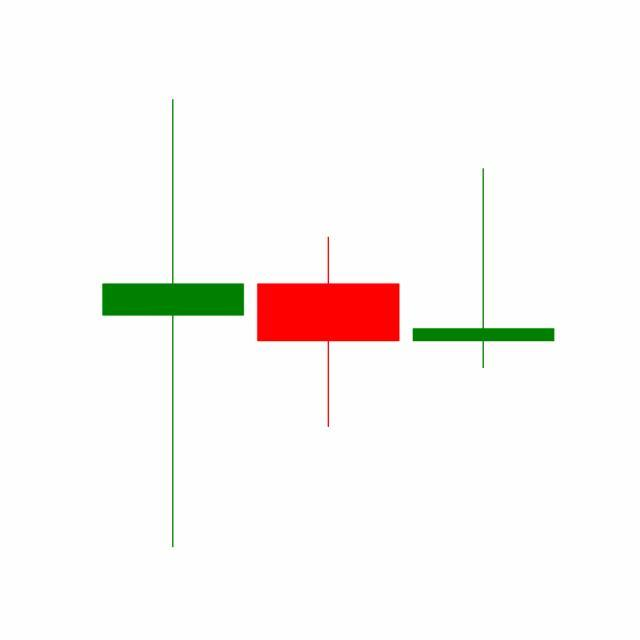Gravestone Doji: (406, 167, 562, 372)
